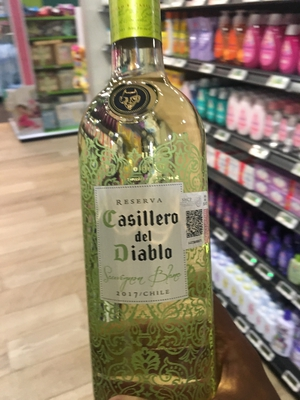casillero del diablo sauvignon blanc: (76, 16, 223, 400)
